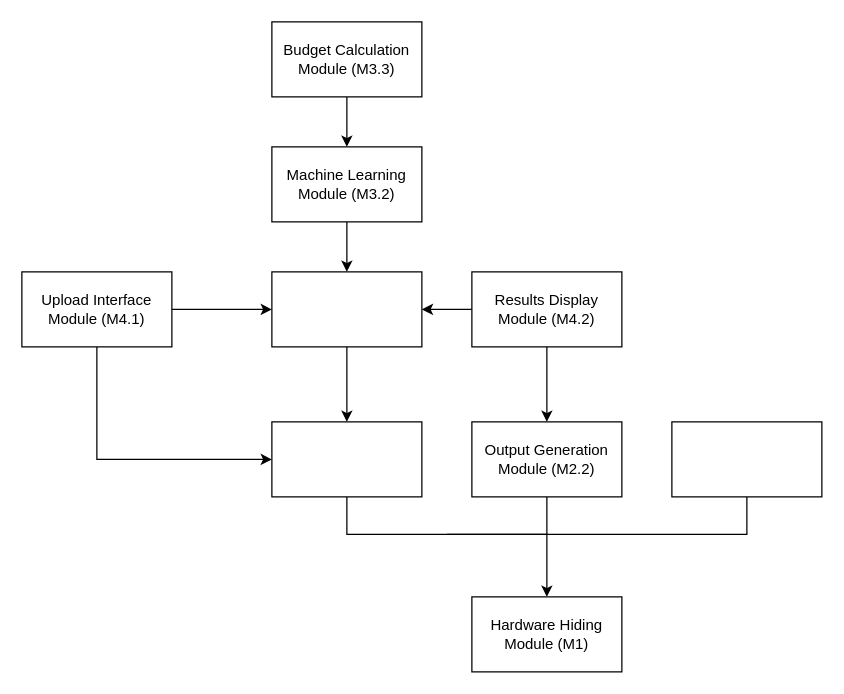
Image size: 844x694. Some labels were removed from this diagram. Here are the shapes that lost their labels. From the top down, the centre of each, then its label:
(346,309): OCR Processing Module (M3.1)
(346,459): Input Format Module (M2.1)
(746,459): Authentication Module (M5)
